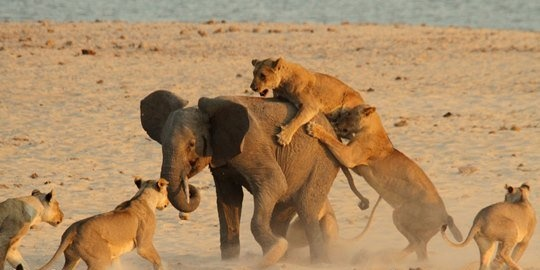elephant: (137, 89, 373, 270)
lion: (308, 102, 464, 265), (247, 54, 390, 146), (48, 176, 171, 270), (441, 181, 537, 267), (1, 186, 65, 269)
